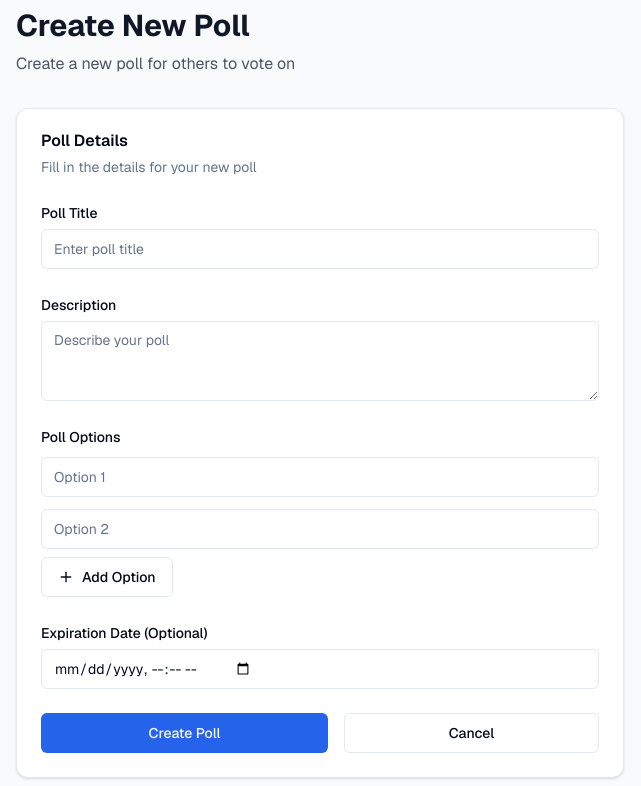
Scenario: CreatePollPage integration › shows validation errors for missing fields (edge case)
This screenshot has width=641, height=786.
(page scrolled)
Click the button "Create Poll" at (184, 733), box [41, 713, 328, 753]
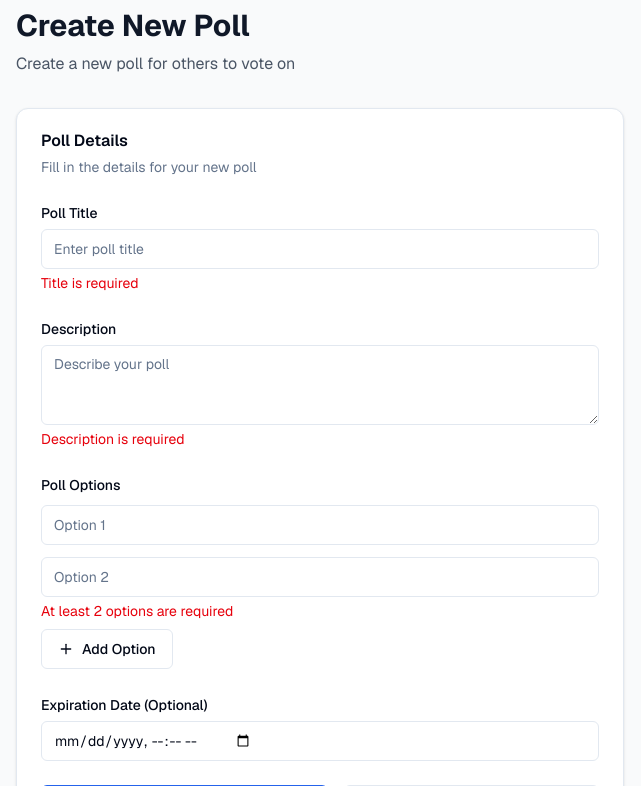
Now the text "Title is required" is shown, box [41, 274, 139, 292]
Now the text "Description is required" is shown, box [41, 430, 185, 448]
Now the text "At least 2 options are required" is shown, box [41, 602, 233, 620]
